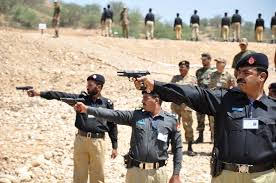gun: (111, 62, 153, 96), (58, 93, 91, 118), (13, 77, 40, 103)
uniform: (176, 73, 275, 180), (114, 103, 183, 181), (68, 90, 121, 181)
